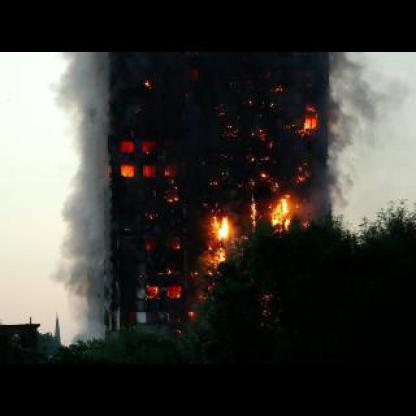Fire: (204, 207, 233, 269), (267, 185, 295, 230)
Smoke: (49, 52, 125, 308), (330, 50, 416, 228)
